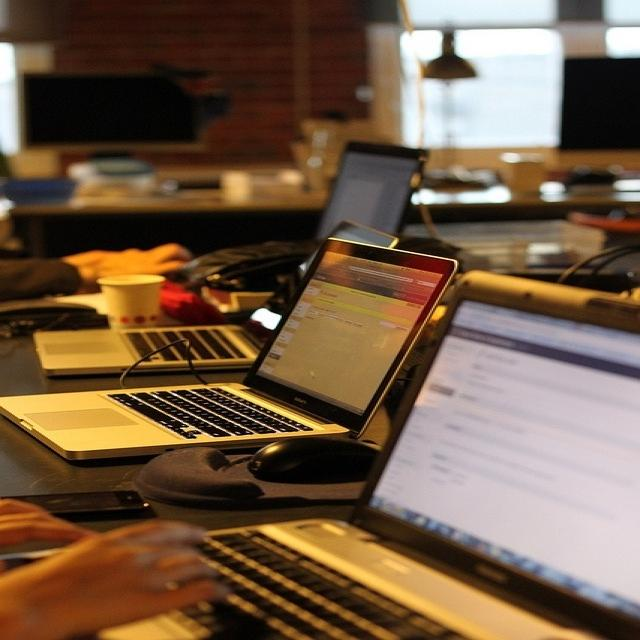E-waste: (8, 99, 640, 632)
